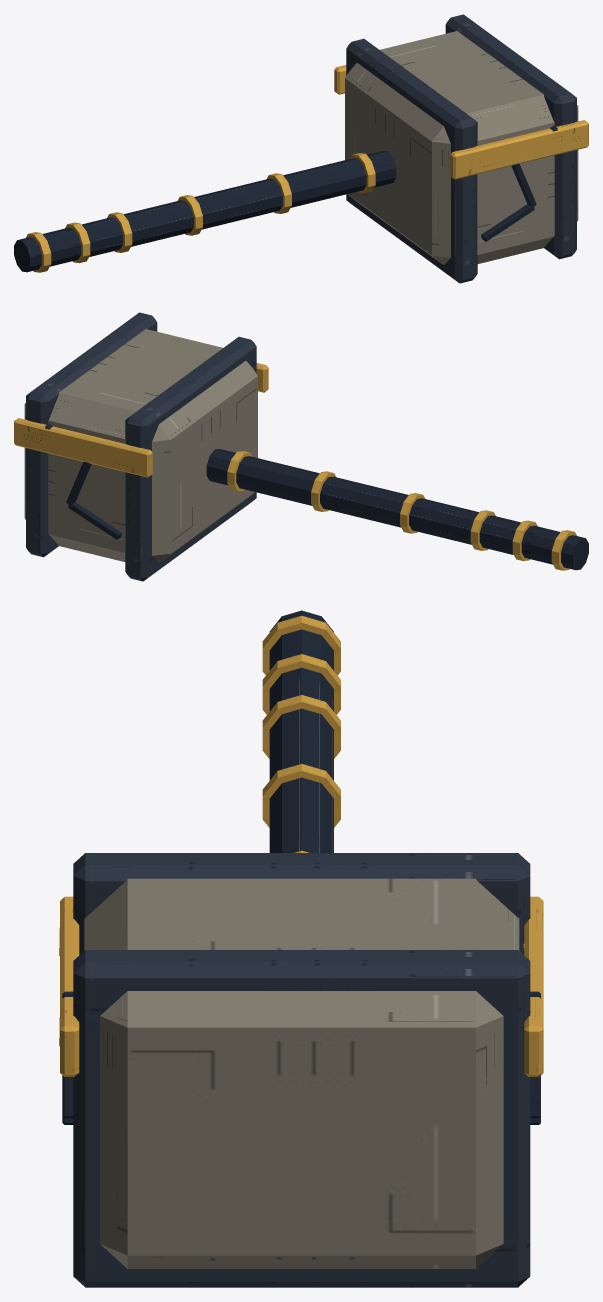
Rendered from maul.glb.
The picture shows the model from 3 angles, top to bottom: view 1: azimuth 30°, elevation 25°; view 2: azimuth 150°, elevation 25°; view 3: azimuth 270°, elevation 25°; orthographic projection. The views are drawn at different scales.
Parts seen in each view (by area): view 1: head, grip; view 2: head, grip; view 3: head, grip.
Part boxes in pixels (bbox=[...]): head: bbox=[334, 14, 588, 283]; grip: bbox=[14, 151, 396, 272]; head: bbox=[14, 312, 268, 581]; grip: bbox=[206, 449, 588, 570]; head: bbox=[59, 853, 543, 1287]; grip: bbox=[262, 610, 340, 852].
Size of the model in its own units: 0.98 by 0.297 by 0.4005.
Materials: 4 (4 with a texture image).
